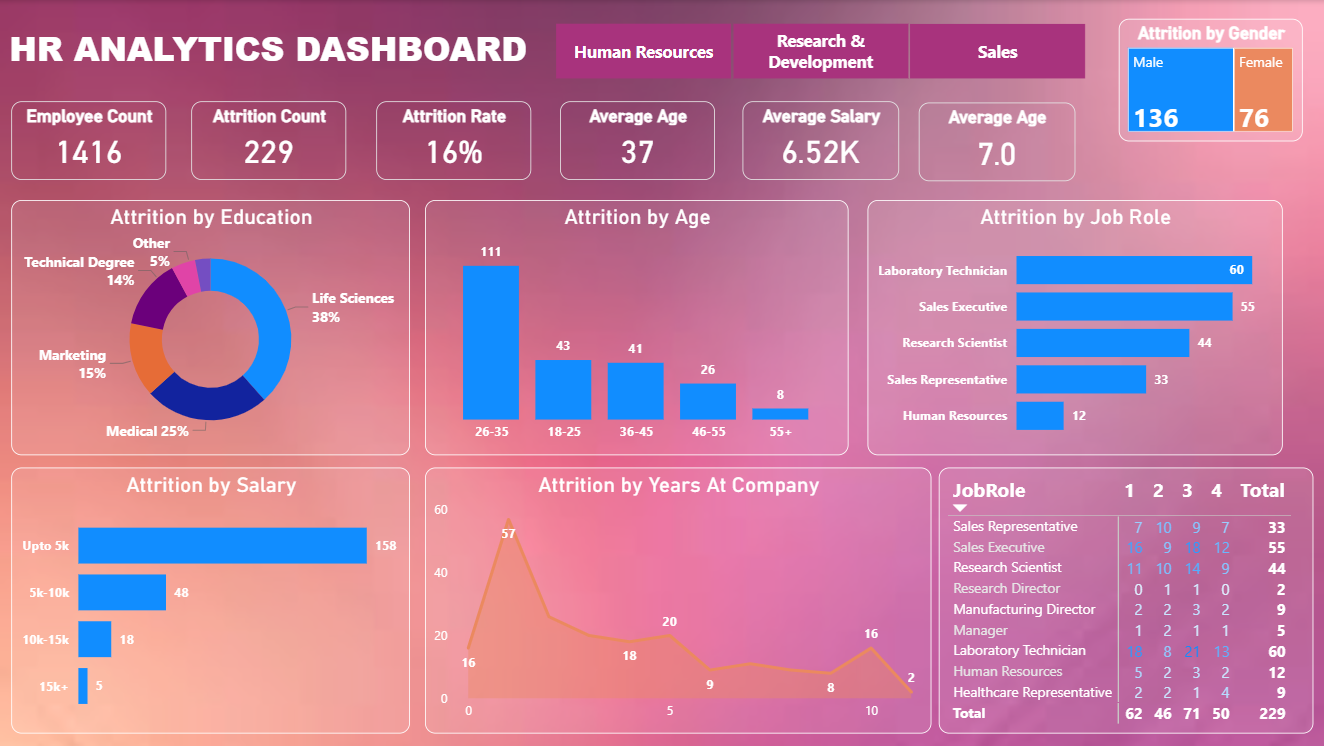

This screenshot's page, from the dashboard's own definition file:
{"tool":"powerbi","page":{"name":"Page 1","canvas":[1280,720],"ordinal":0},"visuals":[{"type":"card","title":"Employee Count","fields":{"Values":["CountNonNull(HR_Analytics.EmpID)"]},"box":[10.9,97.7,149.6,76],"z":0},{"type":"card","title":"Attrition Count","fields":{"Values":["Sum(HR_Analytics.Attrition_Num)"]},"box":[184.6,97.7,149.6,76],"z":1000},{"type":"card","title":"Attrition Rate","fields":{"Values":["HR_Analytics.Attrition Rate"]},"box":[363.1,97.7,149.6,76],"z":2000},{"type":"card","title":"Average Age","fields":{"Values":["Avg(HR_Analytics.Age)"]},"box":[540.5,97.7,149.6,76],"z":3000},{"type":"card","title":"Average Salary","fields":{"Values":["Avg(HR_Analytics.MonthlyIncome)"]},"box":[716.6,97.7,150.8,76],"z":4000},{"type":"card","title":"Average Age","fields":{"Values":["Avg(HR_Analytics.YearsAtCompany)"]},"box":[886.7,98.9,150.8,76],"z":5000},{"type":"donutChart","title":"Attrition by Education","fields":{"Category":["HR_Analytics.EducationField"],"Y":["Sum(HR_Analytics.Attrition_Num)"]},"box":[10.9,193,384.9,246.1],"z":6000},{"type":"columnChart","title":"Attrition by Age","fields":{"Y":["Sum(HR_Analytics.Attrition_Num)"],"Category":["HR_Analytics.AgeGroup"]},"box":[410.2,193,409,246.1],"z":7000},{"type":"pivotTable","fields":{"Rows":["HR_Analytics.JobRole"],"Columns":["HR_Analytics.JobSatisfaction"],"Values":["Sum(HR_Analytics.Attrition_Num)"]},"box":[906,451.2,361.9,257],"z":8000},{"type":"barChart","title":"Attrition by Salary","fields":{"Category":["HR_Analytics.SalarySlab"],"Y":["Sum(HR_Analytics.Attrition_Num)"]},"box":[10.9,451.2,384.9,257],"z":9000},{"type":"barChart","title":"Attrition by Job Role","fields":{"Y":["Sum(HR_Analytics.Attrition_Num)"],"Category":["HR_Analytics.JobRole"]},"box":[837.3,193,400.5,246.1],"z":10000},{"type":"areaChart","title":"Attrition by Years At Company","fields":{"Category":["HR_Analytics.YearsAtCompany"],"Y":["Sum(HR_Analytics.Attrition_Num)"]},"box":[410.2,451.2,488.6,257],"z":11000},{"type":"treemap","title":"Attrition by Gender","fields":{"Group":["HR_Analytics.Gender"],"Values":["Sum(HR_Analytics.Attrition_Num)"]},"box":[1079.8,18.1,177.3,118.2],"z":12000},{"type":"slicer","fields":{"Values":["HR_Analytics.Department"]},"box":[512.7,18.1,558.6,62.7],"z":13000},{"type":"textbox","box":[2.4,19.3,512.7,59.1],"z":14000}]}

Visuals, with their boxes in screenshot pixels (x1, y1, x2, y2), scaled from the page's 1280x720 canvas onto the 1324x746 screenshot:
"Employee Count" card: left=11, top=101, right=166, bottom=180
"Attrition Count" card: left=191, top=101, right=346, bottom=180
"Attrition Rate" card: left=376, top=101, right=530, bottom=180
"Average Age" card: left=559, top=101, right=714, bottom=180
"Average Salary" card: left=741, top=101, right=897, bottom=180
"Average Age" card: left=917, top=102, right=1073, bottom=181
"Attrition by Education" donutChart: left=11, top=200, right=409, bottom=455
"Attrition by Age" columnChart: left=424, top=200, right=847, bottom=455
pivotTable - HR_Analytics.JobRole x HR_Analytics.JobSatisfaction: left=937, top=467, right=1311, bottom=734
"Attrition by Salary" barChart: left=11, top=467, right=409, bottom=734
"Attrition by Job Role" barChart: left=866, top=200, right=1280, bottom=455
"Attrition by Years At Company" areaChart: left=424, top=467, right=930, bottom=734
"Attrition by Gender" treemap: left=1117, top=19, right=1300, bottom=141
slicer - HR_Analytics.Department: left=530, top=19, right=1108, bottom=84
textbox: left=2, top=20, right=533, bottom=81
